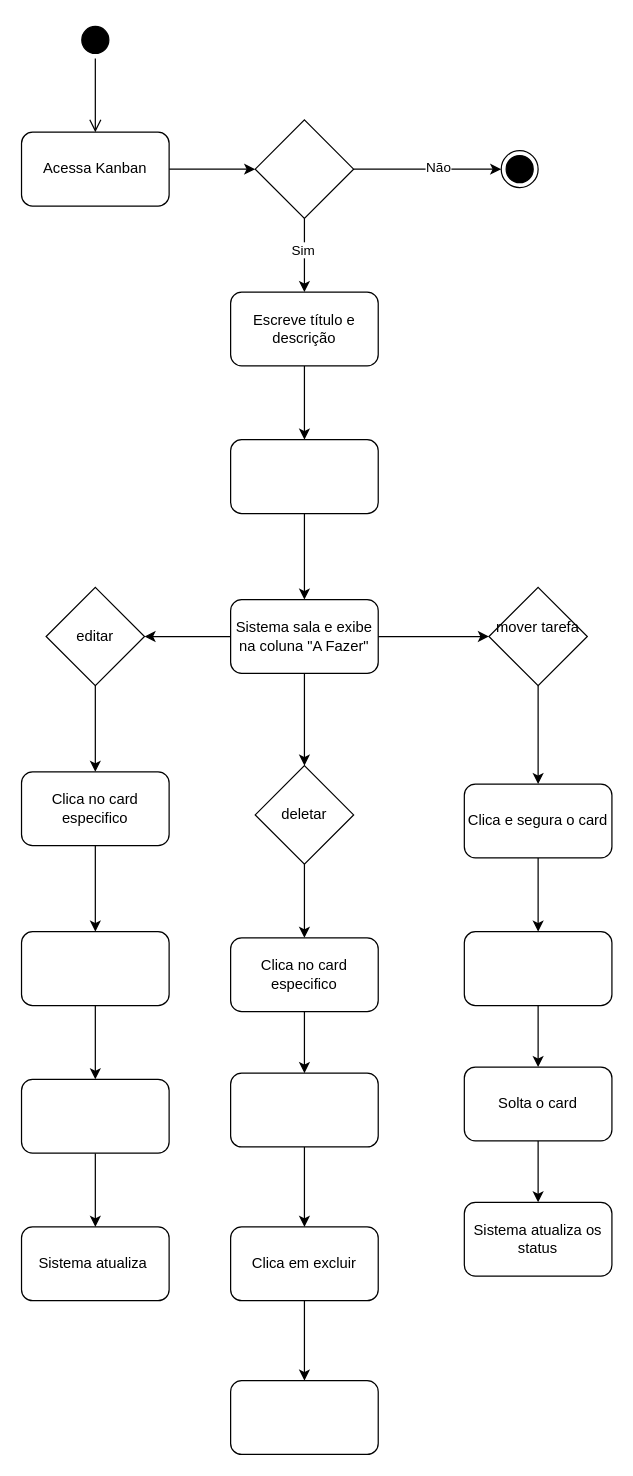
This 633x1476 diagram has some shape labels left out. Here are the shapes that lost their labels. From the top down, the centre of each, then its label:
At point 304,168: "Criar Tarefa".
At point 303,476: "Clicar em salvar".
At point 94,968: "clicar no botão de editar".
At point 537,968: "Arrasta para outra coluna".
At point 94,1115: "Reescrever titulo ou descrição".
At point 303,1109: "Clica nos três pontos".
At point 303,1416: "Sistema deleta".
